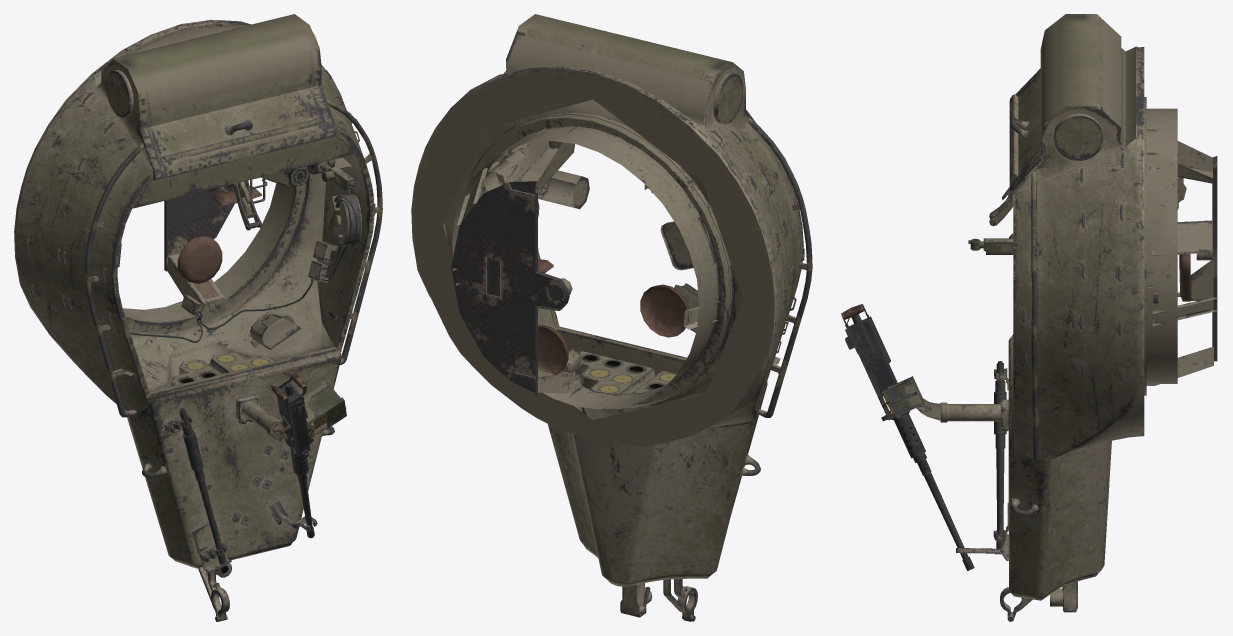
Rendered from Turret_01.glb.
The picture shows the model from 3 angles, left to right: view 1: azimuth 30°, elevation 25°; view 2: azimuth 150°, elevation 25°; view 3: azimuth 270°, elevation 25°; orthographic projection. The views are drawn at different scales.
Parts seen in each view (by area): view 1: set_0_group_0; view 2: set_0_group_0; view 3: set_0_group_0.
Boxes of the visible parts, x1,y1,x2,y2 form: set_0_group_0: [14, 14, 382, 621]; set_0_group_0: [411, 14, 812, 621]; set_0_group_0: [841, 14, 1217, 621].
Bounding box in the file's own units: 2.33 × 3.62 × 2.17.
1 material, 1 textured.
